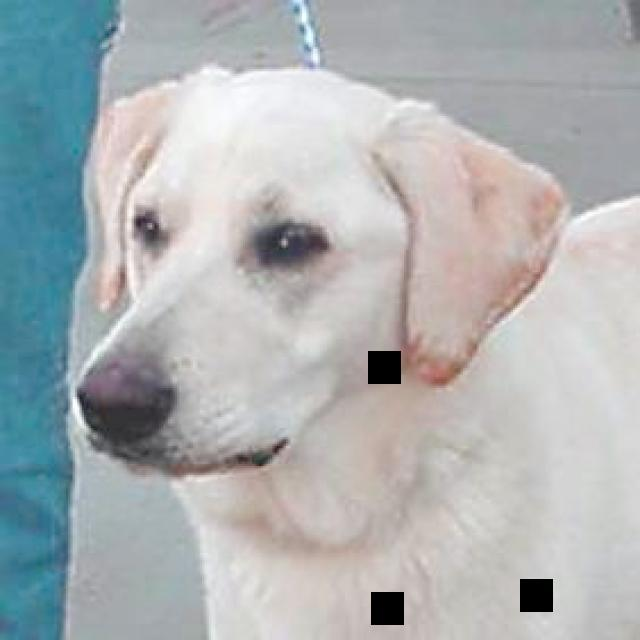puppy-dog: (65, 64, 640, 640)
